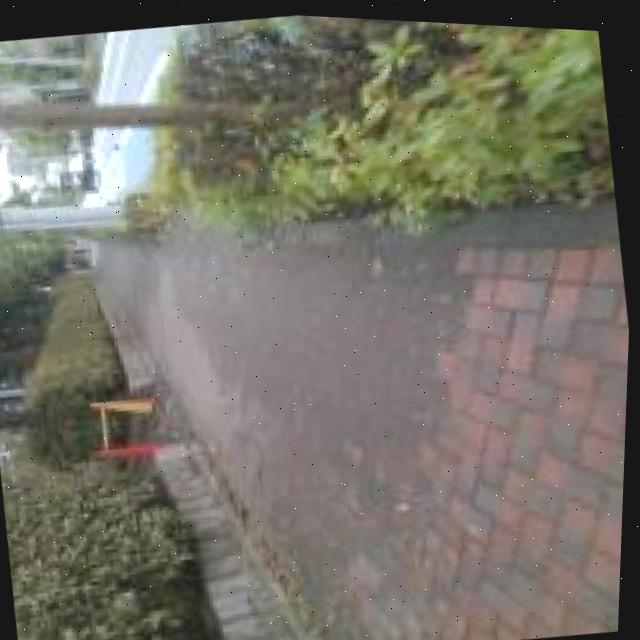Automobile: (49, 152, 96, 189)
Obstacle: (0, 12, 616, 228), (94, 396, 159, 456)
Road: (97, 24, 180, 100), (94, 128, 155, 200)
Sidewalk: (100, 197, 631, 640)
